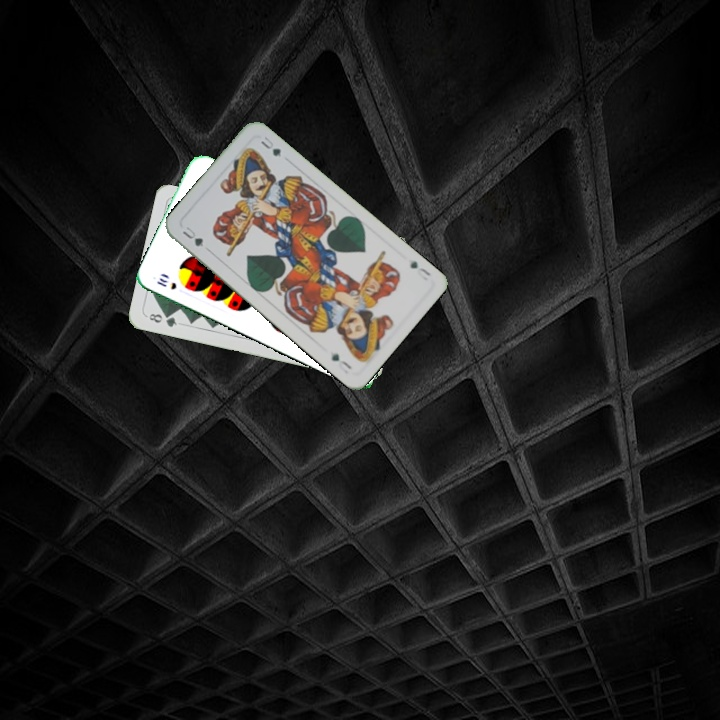G8: (143, 309, 180, 330)
GU: (178, 222, 206, 250), (406, 257, 433, 283)
S10: (153, 273, 179, 292)
